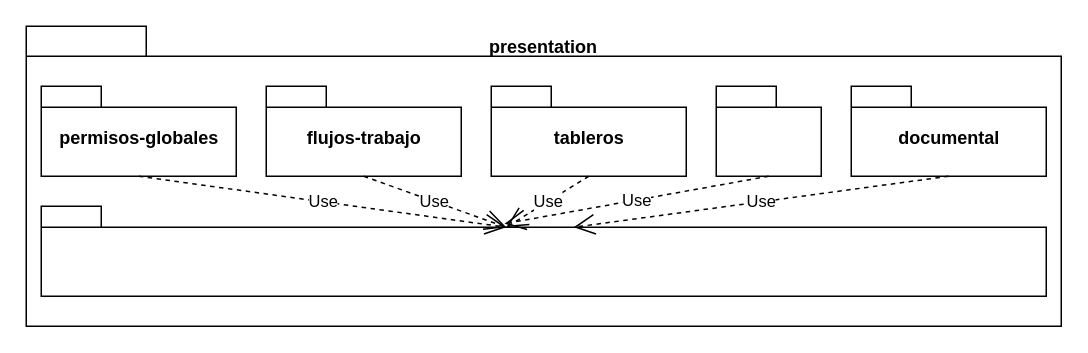
Image size: 1088x353. Some labels were removed from this diagram. Each missing label, with the centre of its shape:
op: the point at 768,130
plugins: the point at 543,250
